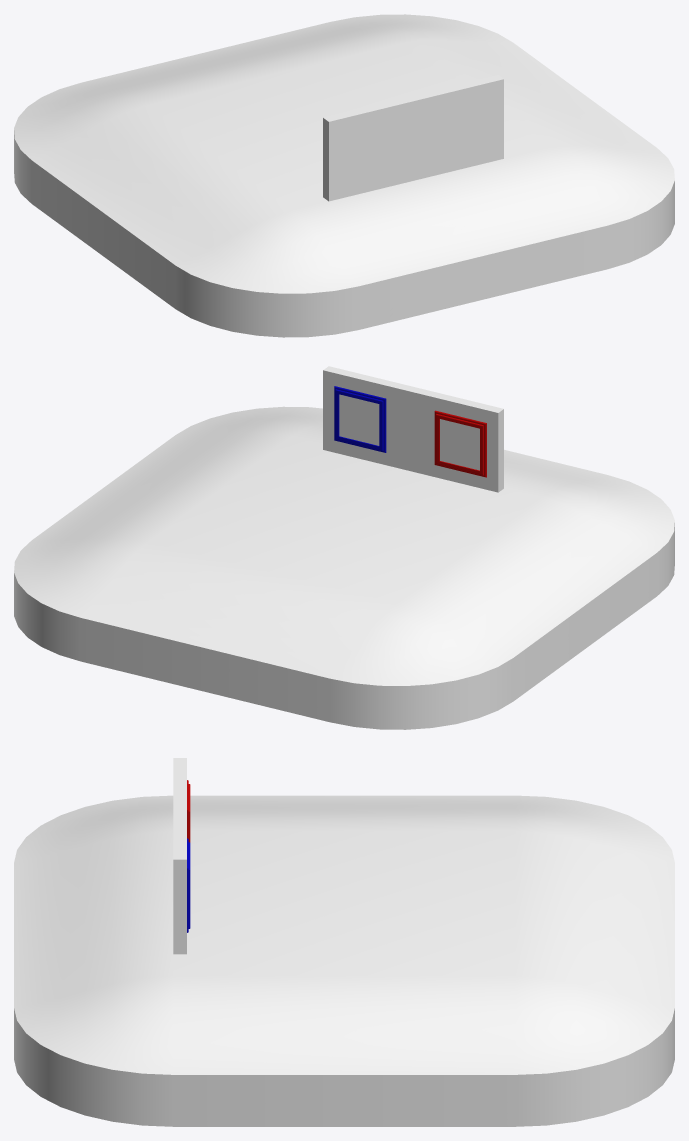
Rendered from MuseumScene.fbx.
3 renders of one model, top to bottom at view 1: azimuth 30°, elevation 25°; view 2: azimuth 150°, elevation 25°; view 3: azimuth 270°, elevation 25°, orthographic. The views are drawn at different scales.
Parts seen in each view (by area): view 1: Plane, Cube; view 2: Plane, Cube, Plane.001; view 3: Plane, Cube, Plane.001.
Boxes of the visible parts, x1,y1,x2,y2 form: Plane: (14,14,674,337); Cube: (323,75,503,201); Plane: (14,406,674,729); Cube: (323,366,503,492); Plane.001: (334,386,486,477); Plane: (14,795,674,1126); Cube: (173,758,186,954); Plane.001: (187,780,190,932).
Bounding box in the file's own units: 4028 × 1199 × 4028.
